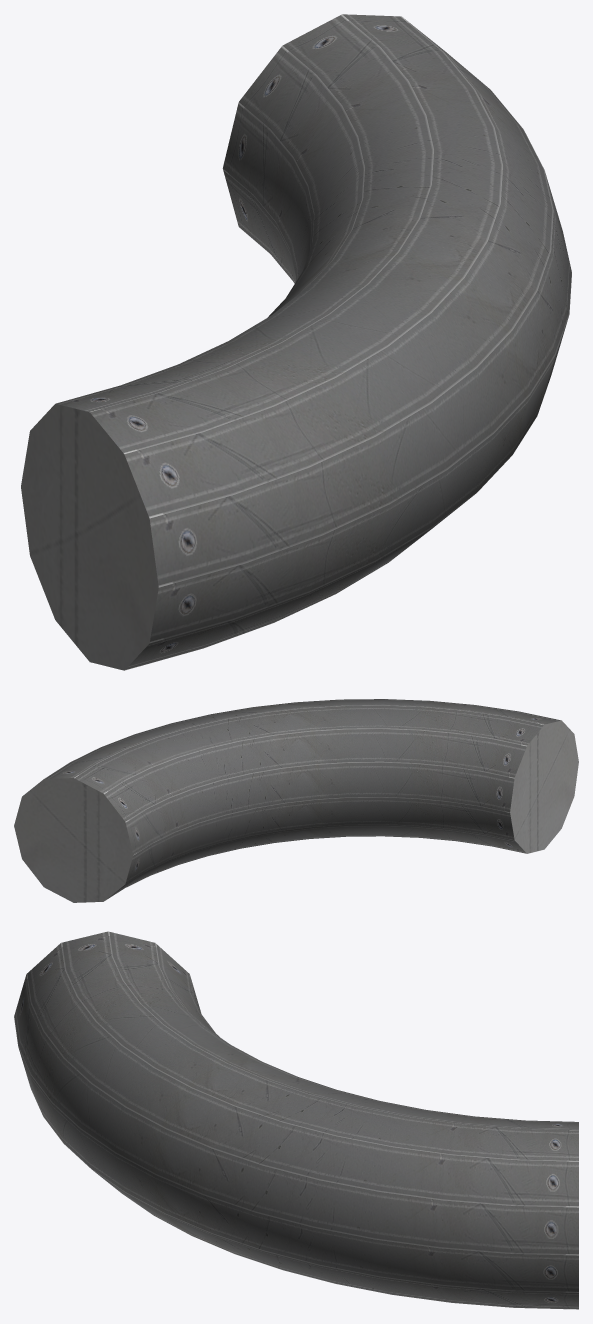
Rendered from SM_Pipe2c.fbx.
3 views of the same model, one above another, from view 1: azimuth 30°, elevation 25°; view 2: azimuth 150°, elevation 25°; view 3: azimuth 270°, elevation 25° (orthographic). The views are drawn at different scales.
Parts seen in each view (by area): view 1: SM_Pipe2c_LOD0; view 2: SM_Pipe2c_LOD0; view 3: SM_Pipe2c_LOD0.
Part boxes in pixels (x1,y1,x2,y2): SM_Pipe2c_LOD0: (21, 14, 571, 670); SM_Pipe2c_LOD0: (14, 699, 578, 902); SM_Pipe2c_LOD0: (14, 931, 578, 1309).
Bounding box in the file's own units: 120 × 120 × 40.
Materials: 1 (1 with a texture image).
